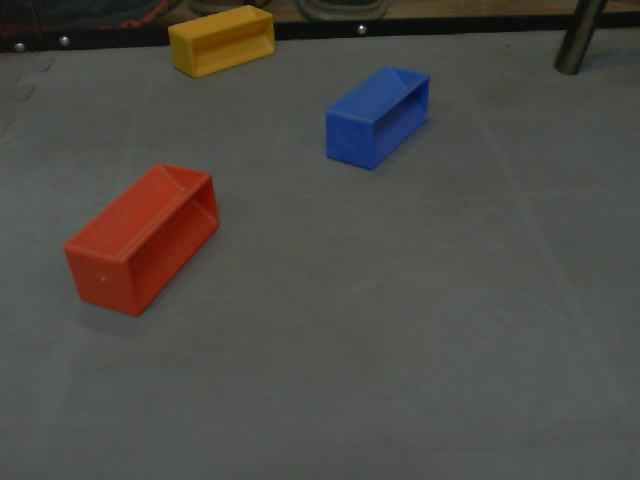BlueSample: (323, 61, 434, 169)
RedSample: (62, 161, 221, 320)
YellowSample: (167, 3, 274, 81)
